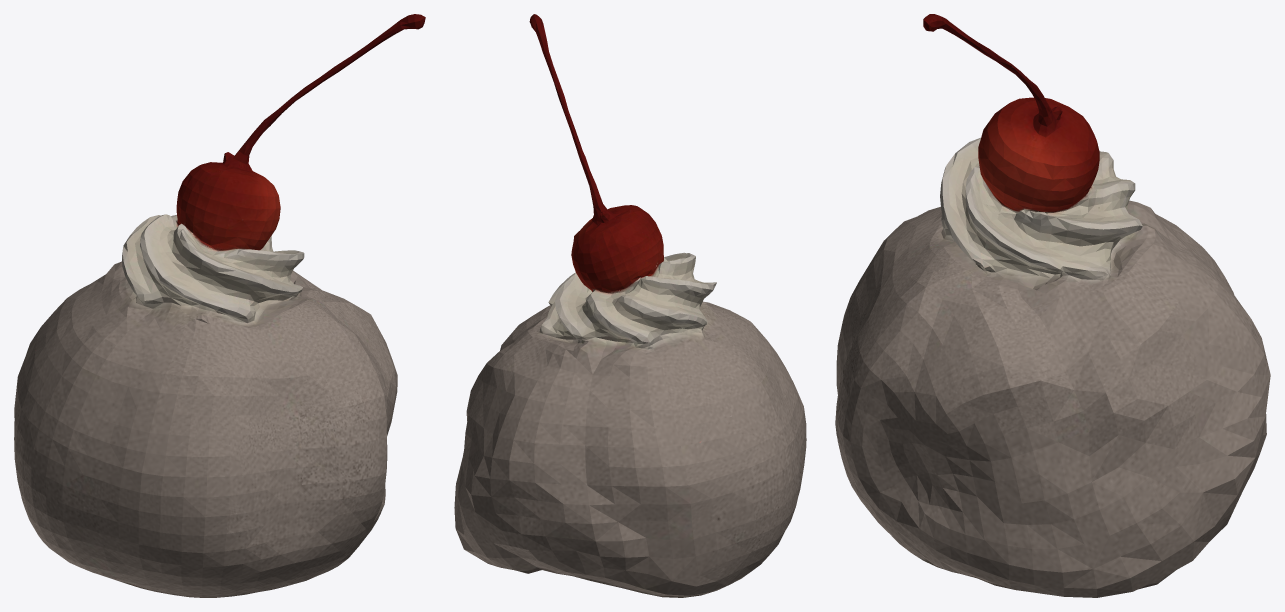
Rendered from food.glb.
3 renders of one model, left to right at view 1: azimuth 30°, elevation 25°; view 2: azimuth 150°, elevation 25°; view 3: azimuth 270°, elevation 25°, orthographic. The views are drawn at different scales.
Visible parts, largest first — view 1: tripo_node_4ad2693d-e10b-4edc-9a63-e818d55a1867; view 2: tripo_node_4ad2693d-e10b-4edc-9a63-e818d55a1867; view 3: tripo_node_4ad2693d-e10b-4edc-9a63-e818d55a1867.
Boxes of the visible parts, left/top/right/bottom form: tripo_node_4ad2693d-e10b-4edc-9a63-e818d55a1867: left=14, top=14, right=425, bottom=597; tripo_node_4ad2693d-e10b-4edc-9a63-e818d55a1867: left=454, top=14, right=806, bottom=597; tripo_node_4ad2693d-e10b-4edc-9a63-e818d55a1867: left=835, top=14, right=1270, bottom=597.
Size of the model in its own units: 0.6699 by 0.998 by 0.666.
Materials: 1 (1 with a texture image).
